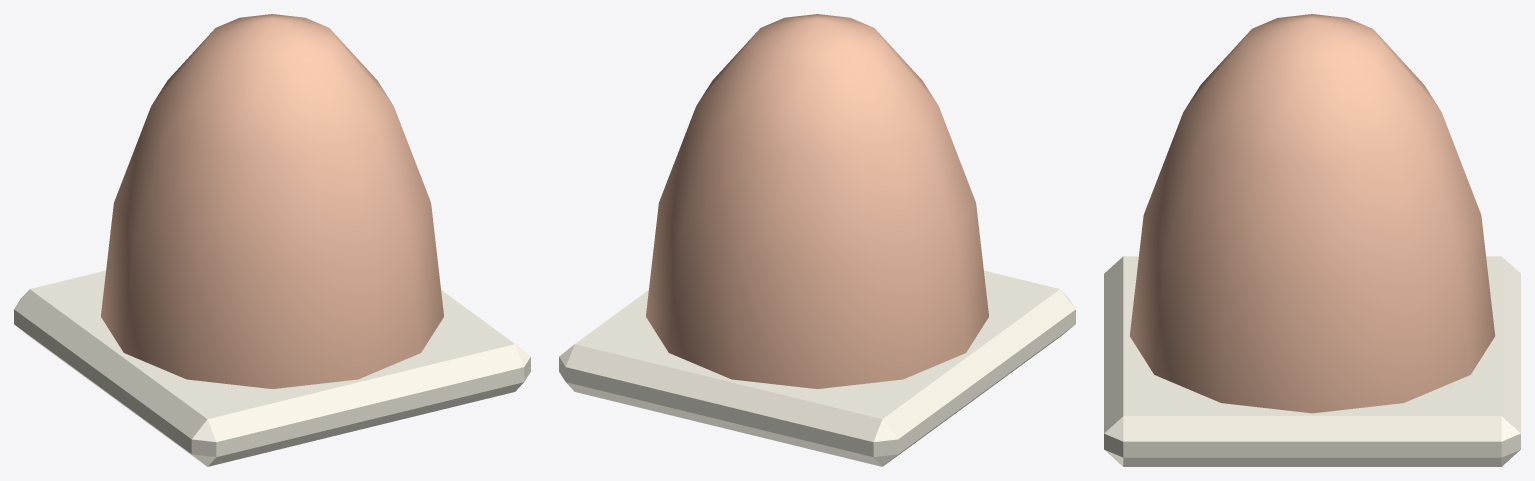
File: R4B_Dome_LOD1.fbx
3 renders of one model, left to right at view 1: azimuth 30°, elevation 25°; view 2: azimuth 150°, elevation 25°; view 3: azimuth 270°, elevation 25°, orthographic. The views are drawn at different scales.
Visible parts, largest first — view 1: R4B_Dome_LOD1; view 2: R4B_Dome_LOD1; view 3: R4B_Dome_LOD1.
Boxes of the visible parts, left/top/right/bottom form: R4B_Dome_LOD1: left=14, top=14, right=530, bottom=466; R4B_Dome_LOD1: left=559, top=14, right=1075, bottom=466; R4B_Dome_LOD1: left=1104, top=14, right=1520, bottom=466.
Size of the model in its own units: 0.52 by 0.506 by 0.52.
